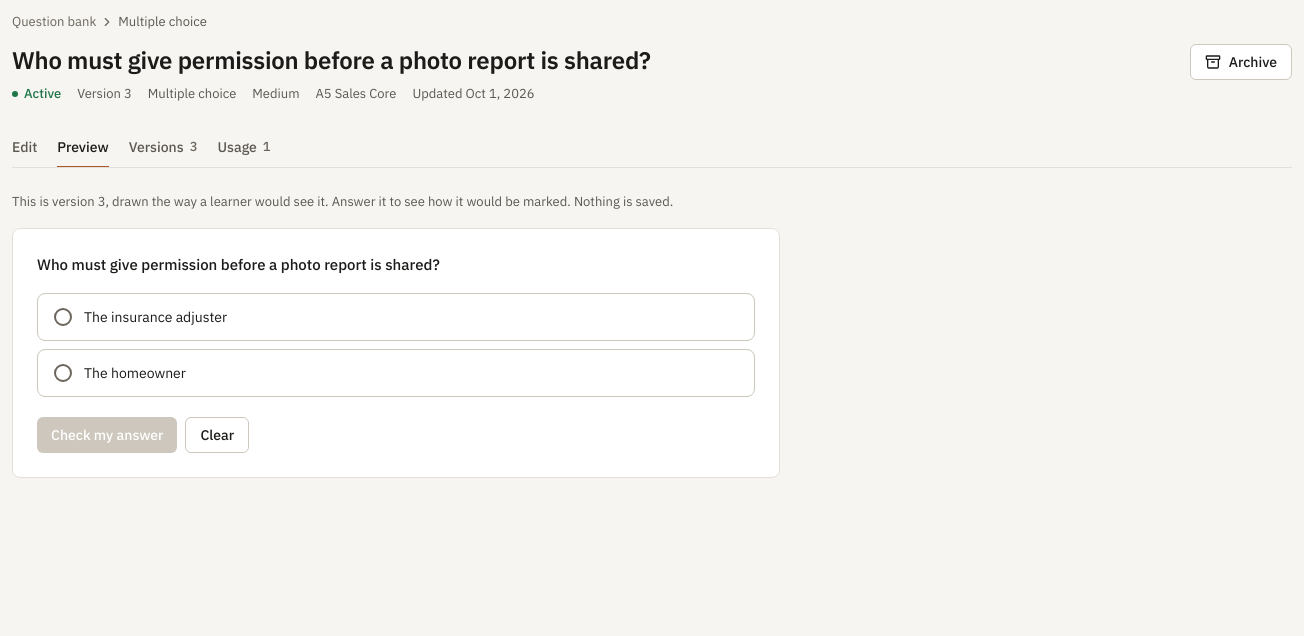
Scenario: QuestionEditorPage (existing question) › lets the author try the question the way a learner sees it
This screenshot has width=1304, height=636.
Expected: the button "Check my answer" is disabled, [37, 417, 177, 453]
Click the radio button labelled "The homeowner": (135, 373) [37, 349, 755, 397]
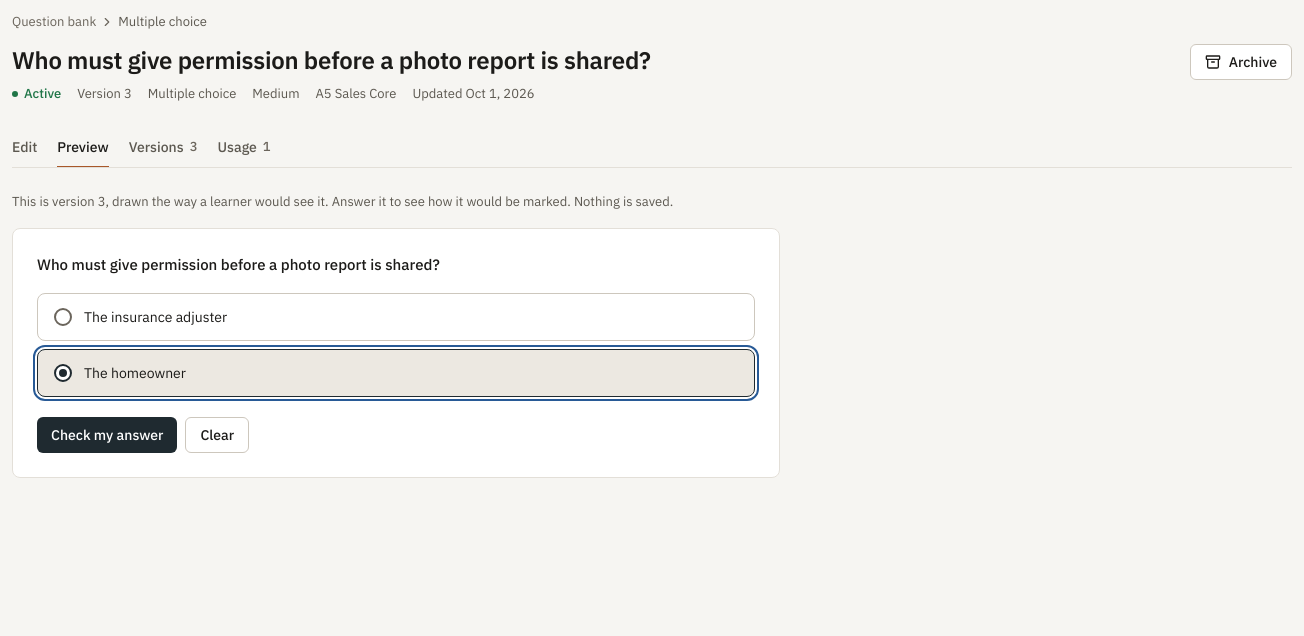
Click the button "Check my answer": (107, 435) [37, 417, 177, 453]
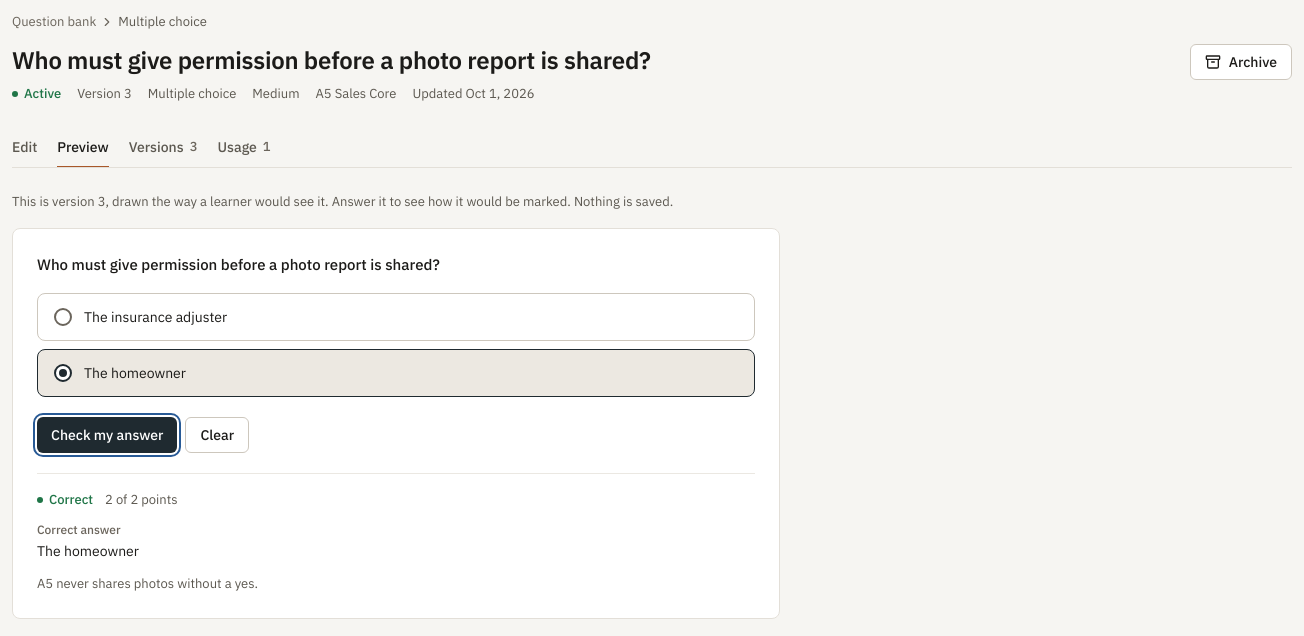
Expected: the text "Correct" is shown, [37, 490, 93, 510]
Expected: the text "2 of 2 points" is shown, [105, 490, 178, 510]
